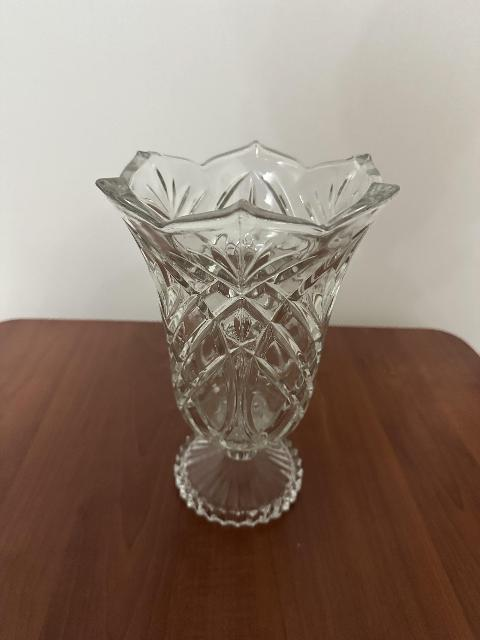Cam: (87, 138, 390, 533)
